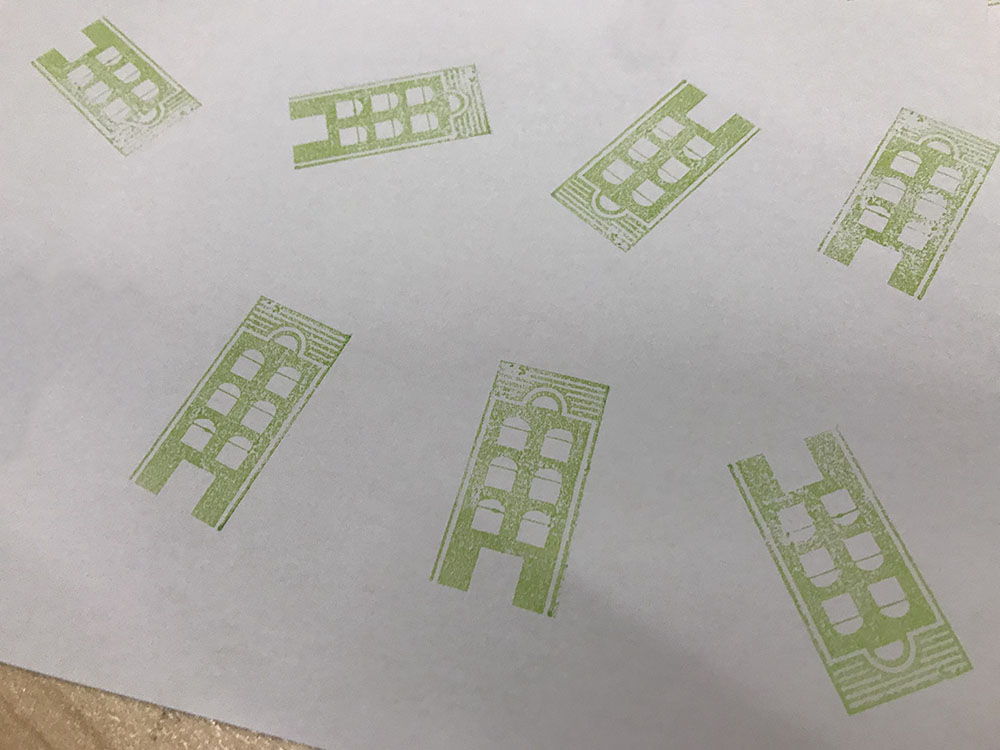build: (705, 417, 980, 724), (116, 280, 364, 544), (419, 343, 622, 623), (535, 60, 780, 263), (806, 92, 995, 314), (277, 50, 503, 188), (26, 10, 208, 171)
